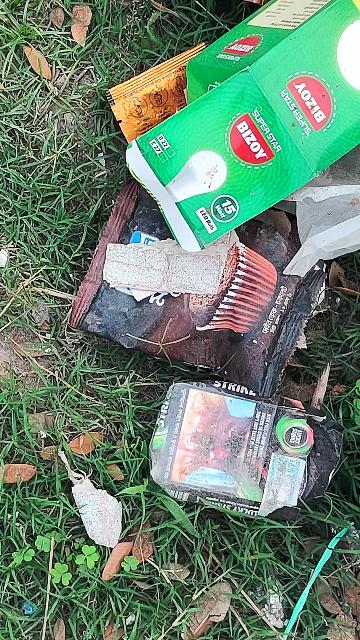packet: (61, 162, 336, 396)
